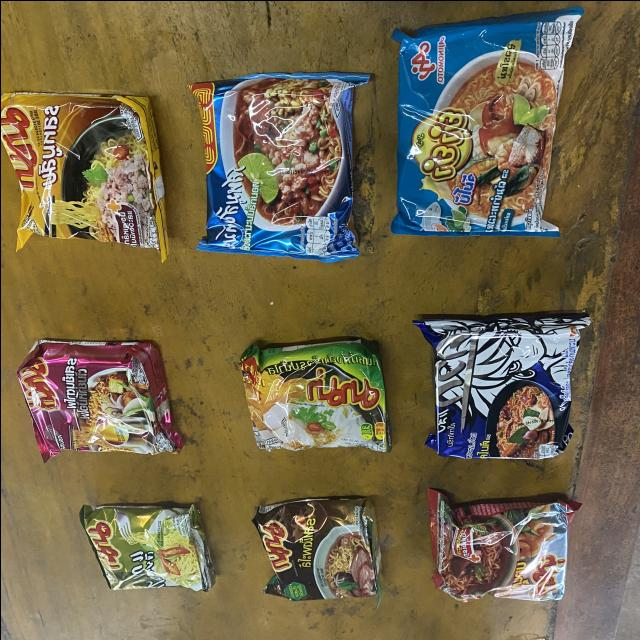plastik: (391, 6, 582, 235), (189, 72, 369, 260), (0, 91, 167, 259), (413, 313, 589, 458), (17, 339, 181, 461), (428, 488, 578, 600), (239, 339, 390, 450), (252, 496, 380, 602), (79, 504, 214, 591)
